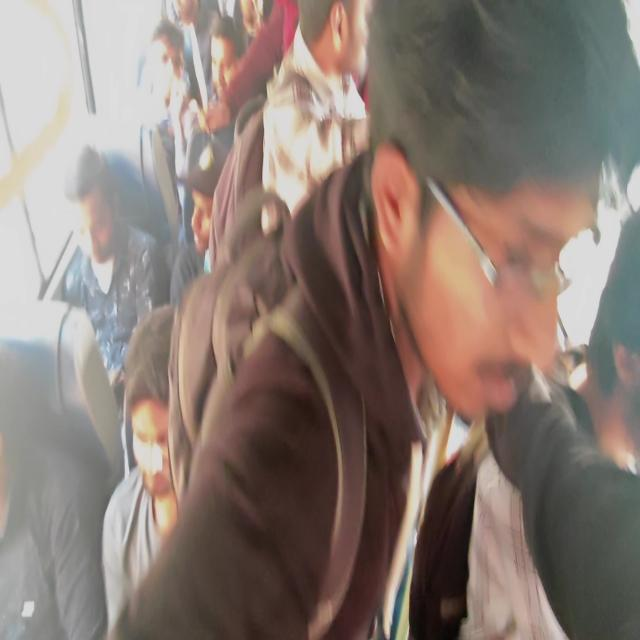person: (105, 0, 638, 638), (462, 209, 639, 638), (52, 143, 170, 476), (101, 303, 179, 636), (260, 0, 372, 219), (169, 129, 230, 306)
